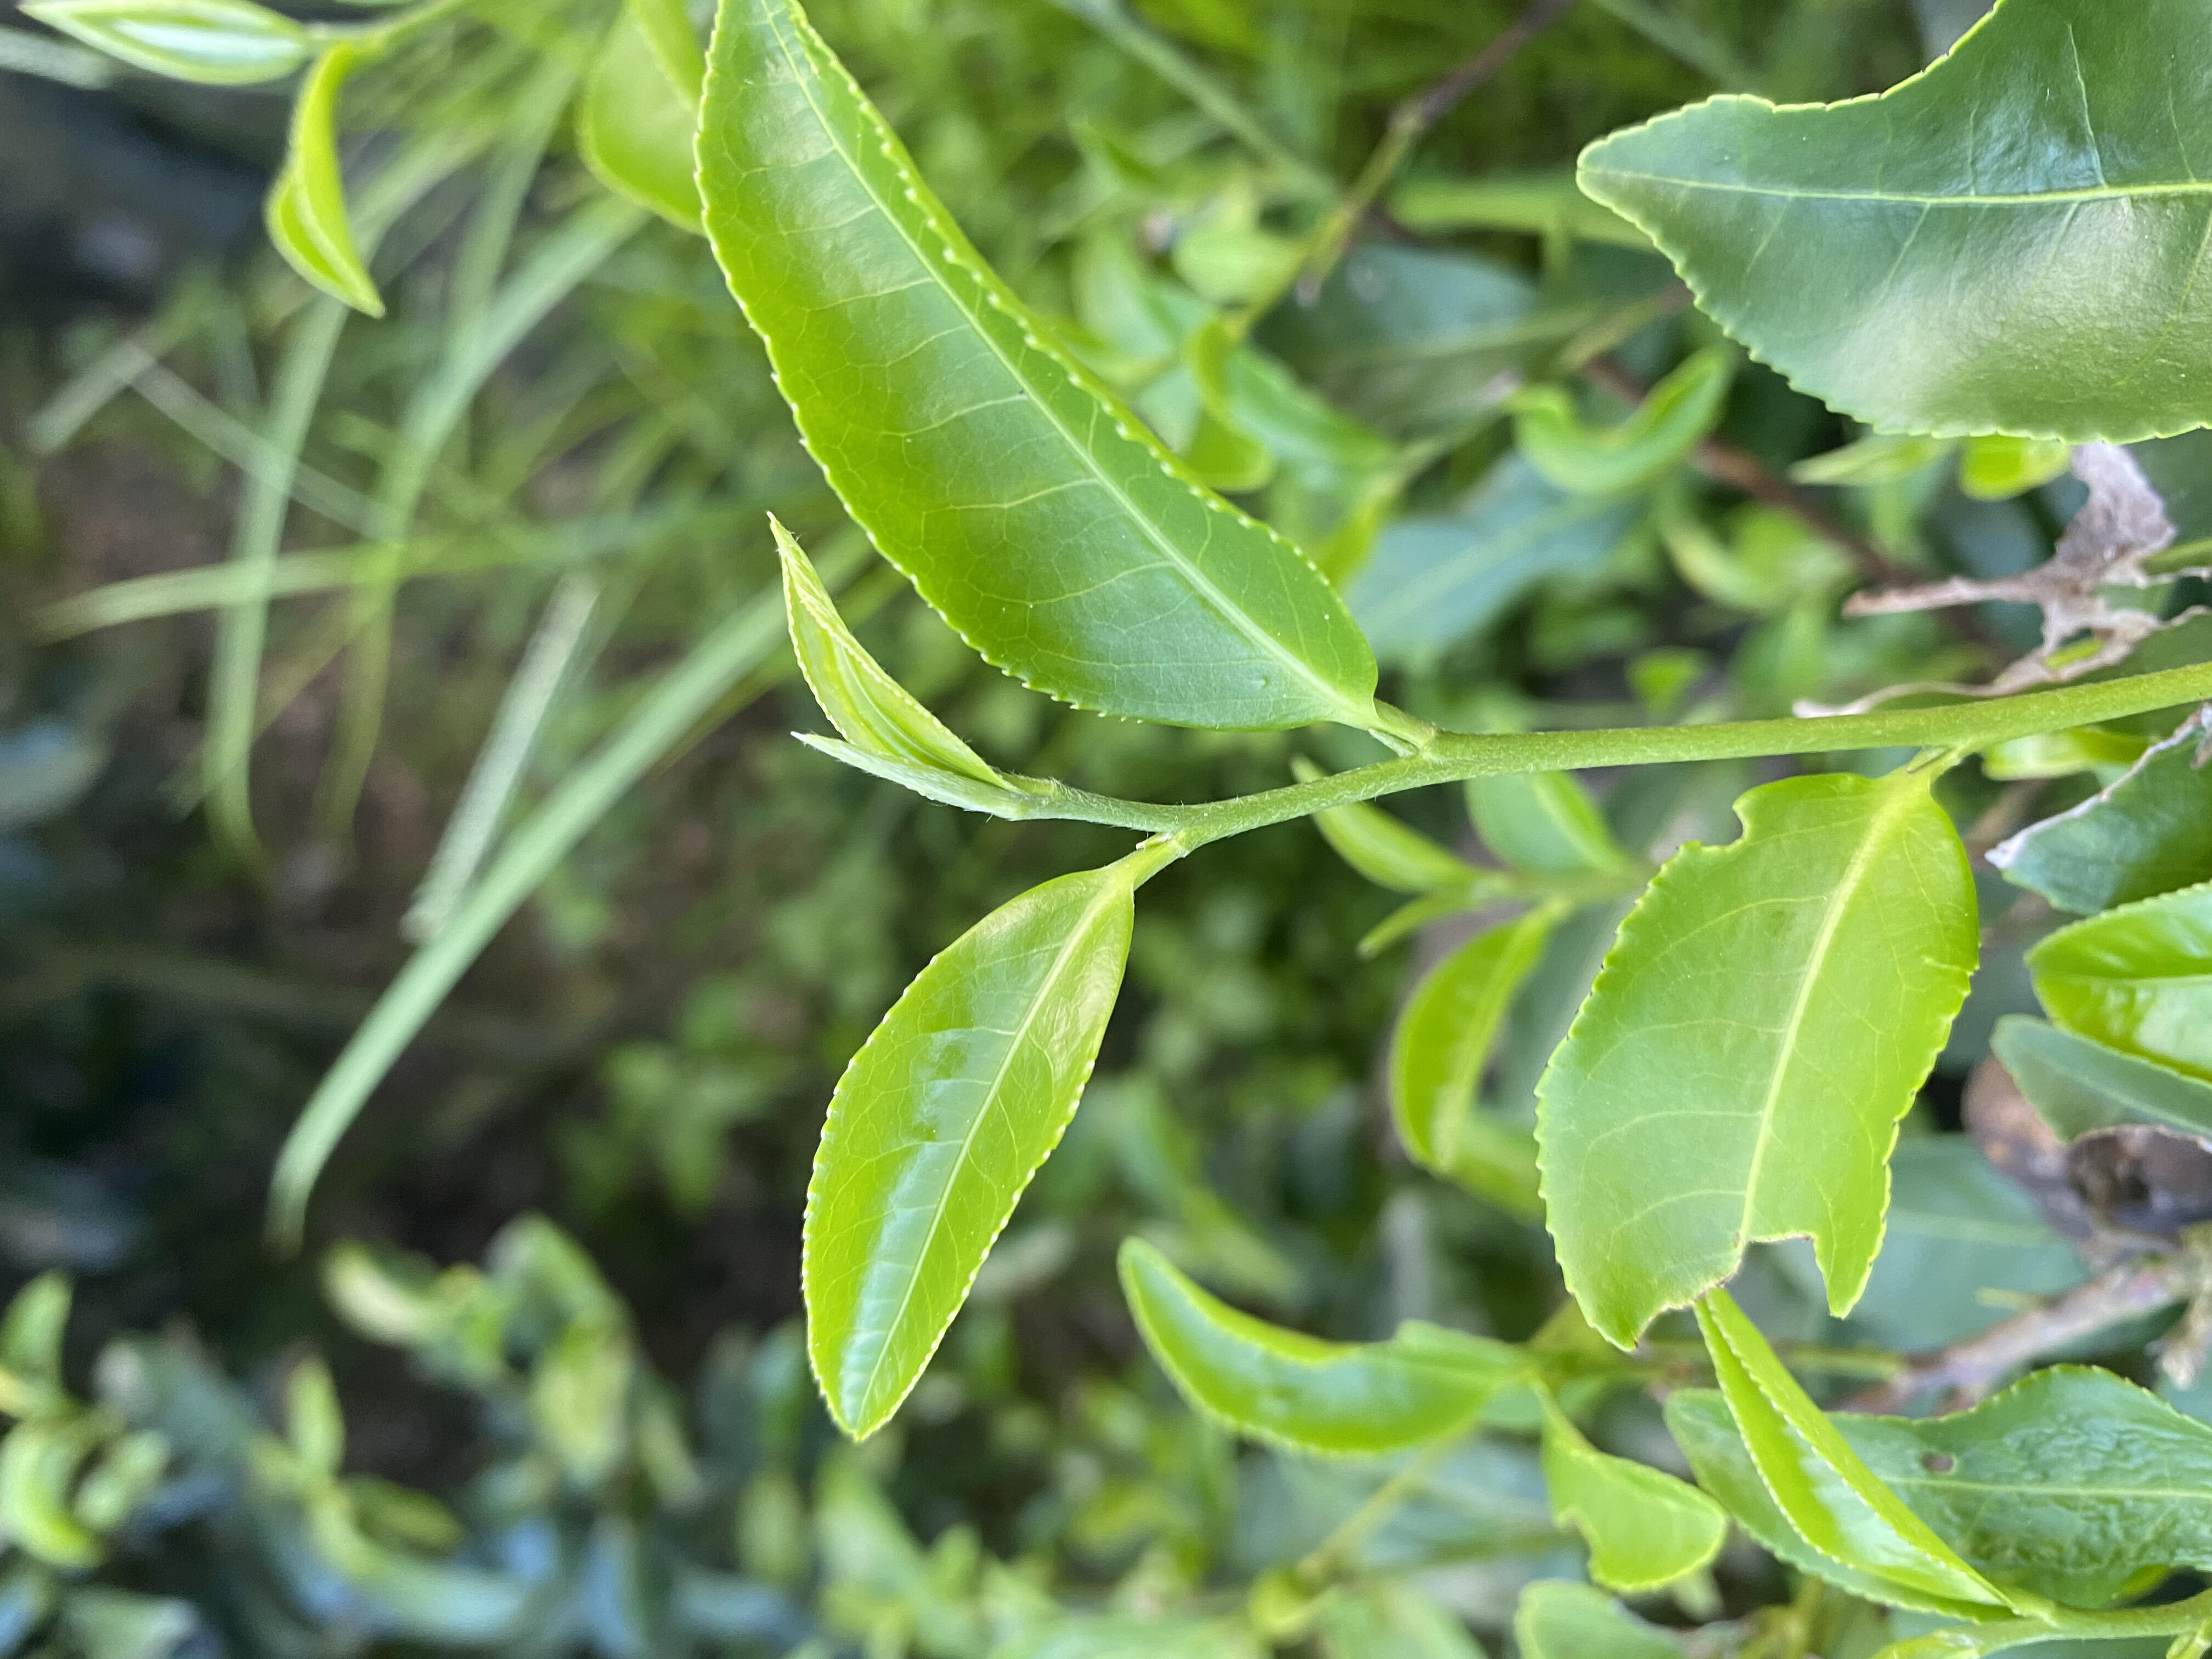chihuo_high: (1527, 767, 1987, 1359)
chihuo_low: (1656, 1359, 2210, 1624)
healthy: (693, 2, 1379, 735), (1575, 2, 2210, 448), (798, 871, 1137, 1446)
